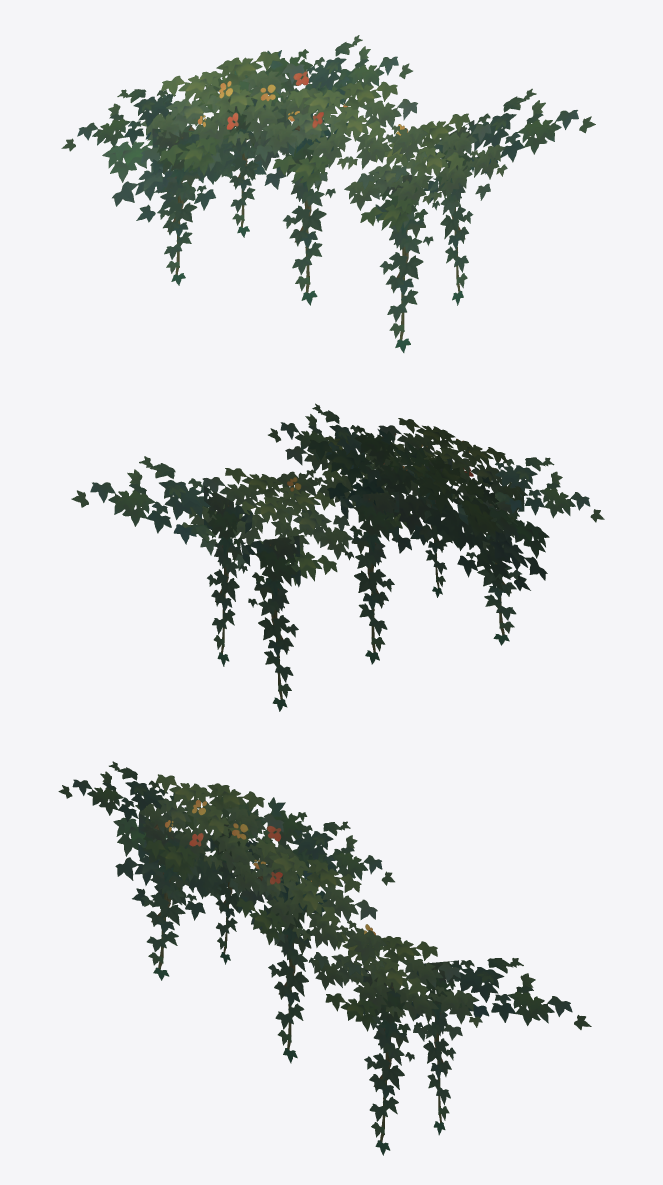
Rendered from Stages_LYLvy106_Vo.fbx.
The picture shows the model from 3 angles, top to bottom: view 1: azimuth 30°, elevation 25°; view 2: azimuth 150°, elevation 25°; view 3: azimuth 330°, elevation 25°; orthographic projection.
Visible parts, largest first — view 1: Stages_LYLvy106_Vo; view 2: Stages_LYLvy106_Vo; view 3: Stages_LYLvy106_Vo.
Boxes of the visible parts, <box> form: Stages_LYLvy106_Vo: <box>61,35,595,352</box>; Stages_LYLvy106_Vo: <box>71,403,604,711</box>; Stages_LYLvy106_Vo: <box>58,761,591,1155</box>.
Bounding box in the file's own units: 7.03 × 3.71 × 0.6282.
Materials: 1 (1 with a texture image).
